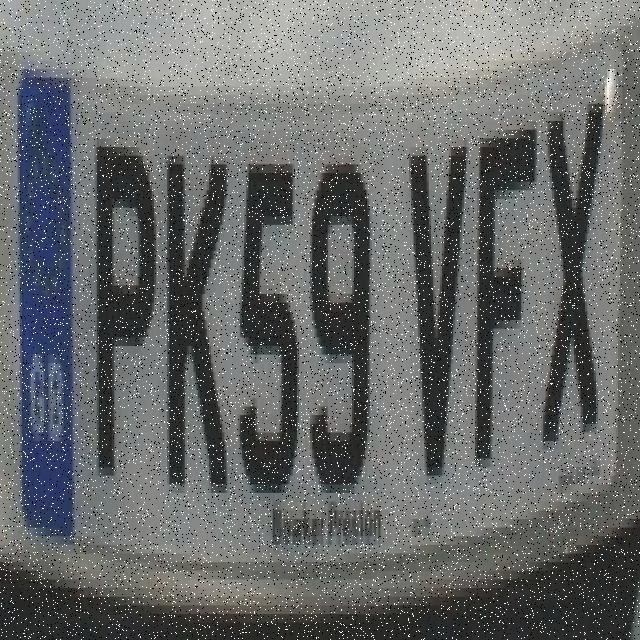licenseplate: (12, 15, 630, 573)
